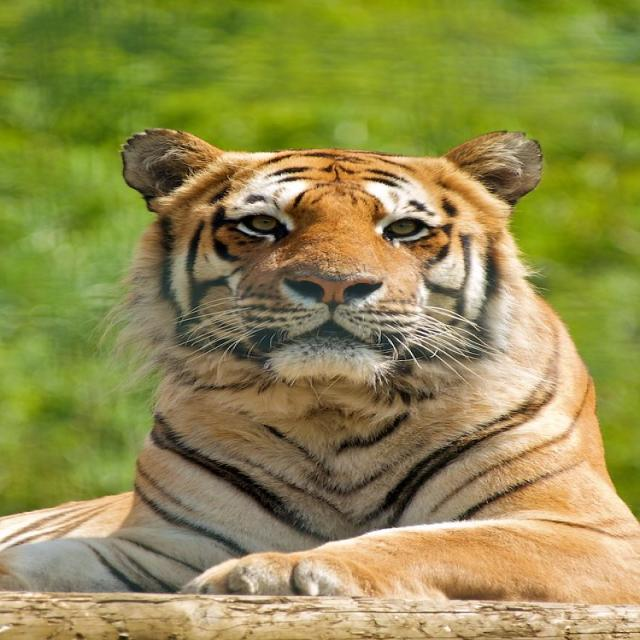Tiger: (20, 118, 627, 610)
